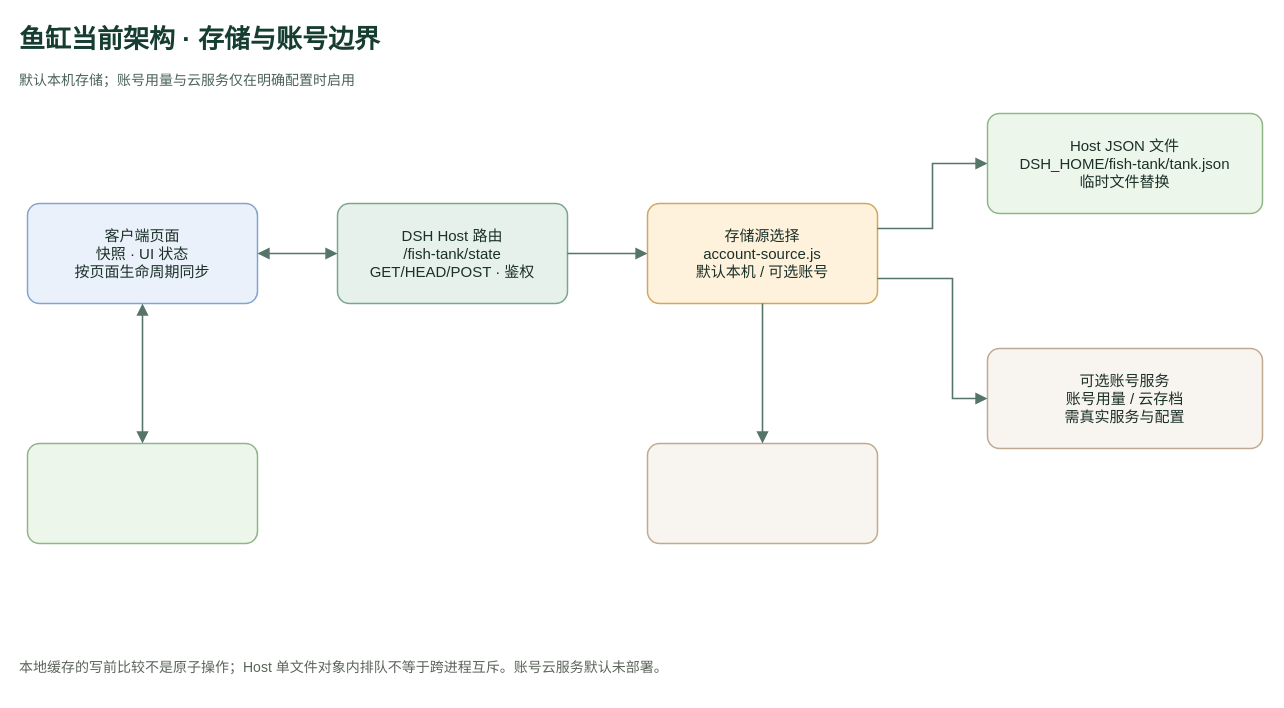
This 1284x708 diagram has some shape labels left out. The box of each missing label's shape, as (x1, y1, x2, y2) in pixels:
DSH 账号能力（可选） 用户身份与 Host 凭据 凭据不进入客户端: (646, 442, 878, 544)
浏览器本地缓存 localStorage dsh.fish-tank.v1: (26, 442, 258, 544)
